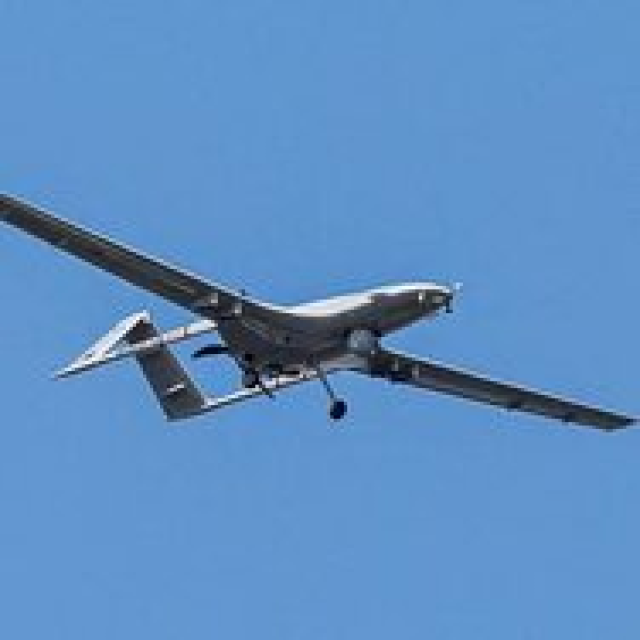military drone: (0, 190, 640, 433)
